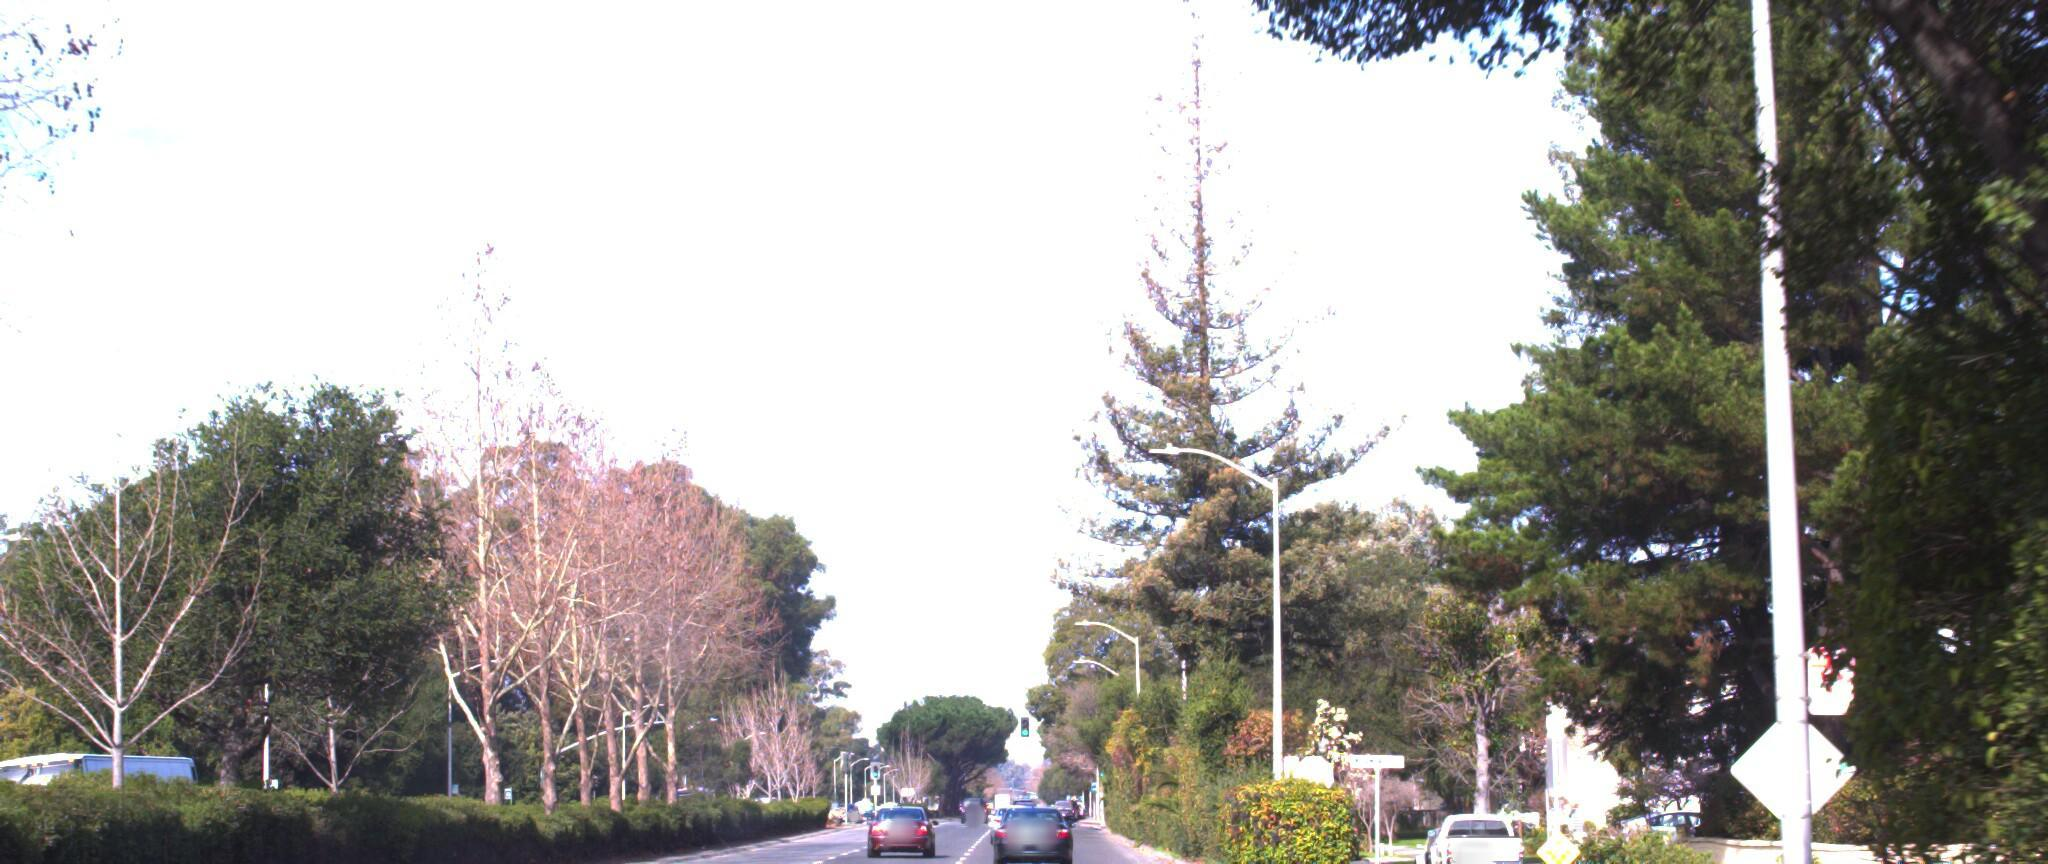car: (1600, 786, 1792, 864), (1415, 787, 1516, 864), (995, 787, 1074, 855), (869, 790, 940, 844)
other_vehicle: (0, 727, 145, 838)
